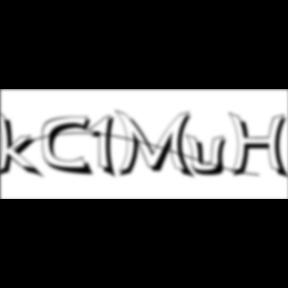1: (88, 114, 122, 182)
C: (42, 115, 97, 178)
M: (114, 108, 198, 181)
k: (0, 108, 46, 181)
u: (185, 132, 233, 178)
